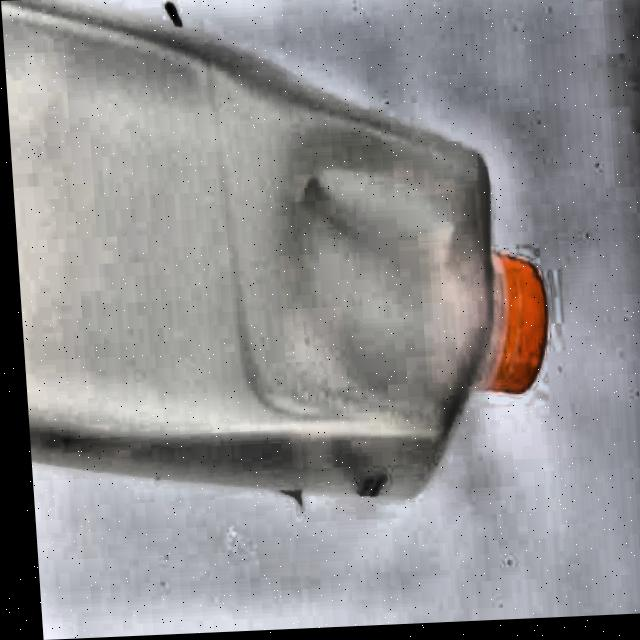plastic: (0, 0, 559, 520)
